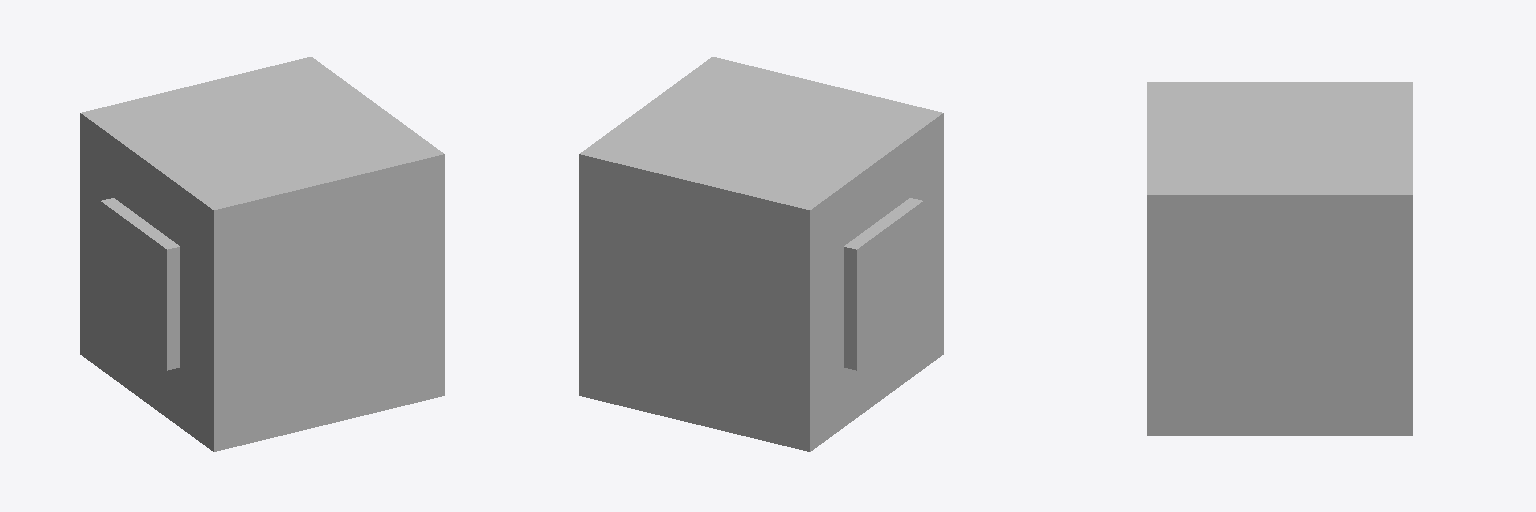
The model's file is room_window2.obj.
3 renders of one model, left to right at view 1: azimuth 30°, elevation 25°; view 2: azimuth 150°, elevation 25°; view 3: azimuth 270°, elevation 25°, orthographic.
Visible parts, largest first — view 1: cube.001; view 2: cube.001; view 3: cube.001.
Boxes of the visible parts, x1,y1,x2,y2 form: cube.001: [80, 57, 444, 451]; cube.001: [579, 57, 943, 451]; cube.001: [1147, 82, 1412, 435].
Size of the model in its own units: 1.06 by 1 by 1.